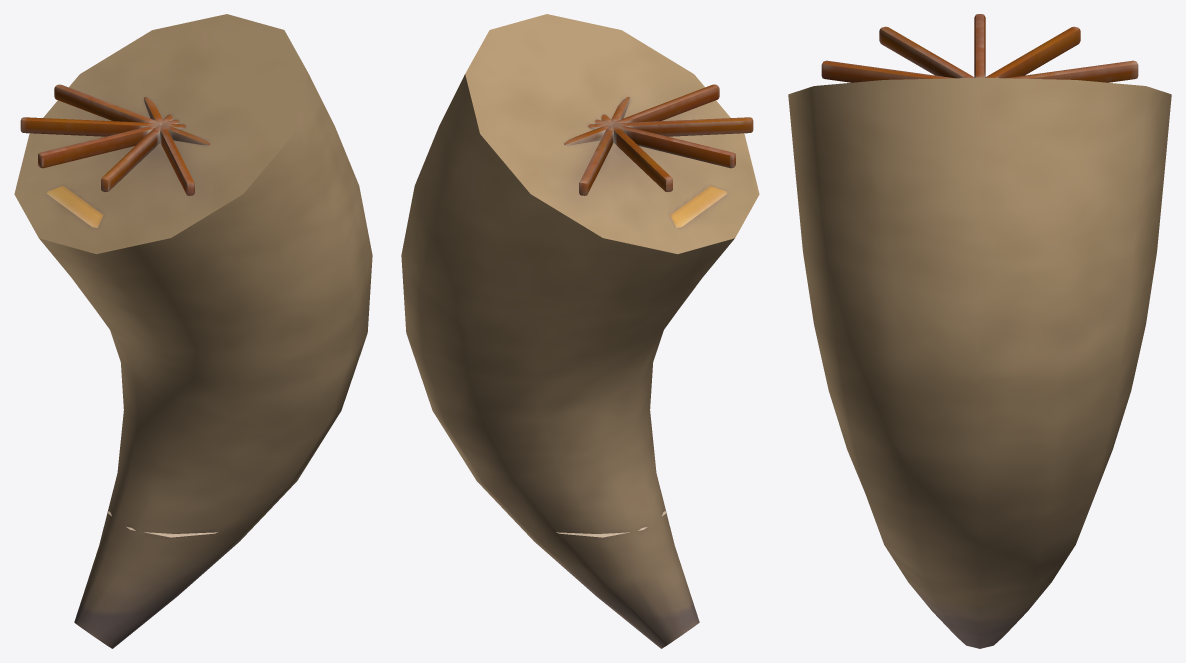
File: coral.glb
The picture shows the model from 3 angles, left to right: view 1: azimuth 30°, elevation 25°; view 2: azimuth 150°, elevation 25°; view 3: azimuth 270°, elevation 25°; orthographic projection. The views are drawn at different scales.
Parts seen in each view (by area): view 1: SM_Coral; view 2: SM_Coral; view 3: SM_Coral.
Boxes of the visible parts, <box> form: SM_Coral: <box>14,14,372,648</box>; SM_Coral: <box>401,14,759,648</box>; SM_Coral: <box>788,14,1171,648</box>.
Size of the model in its own units: 0.2307 by 0.4018 by 0.208.
Materials: 2 (2 with a texture image).
